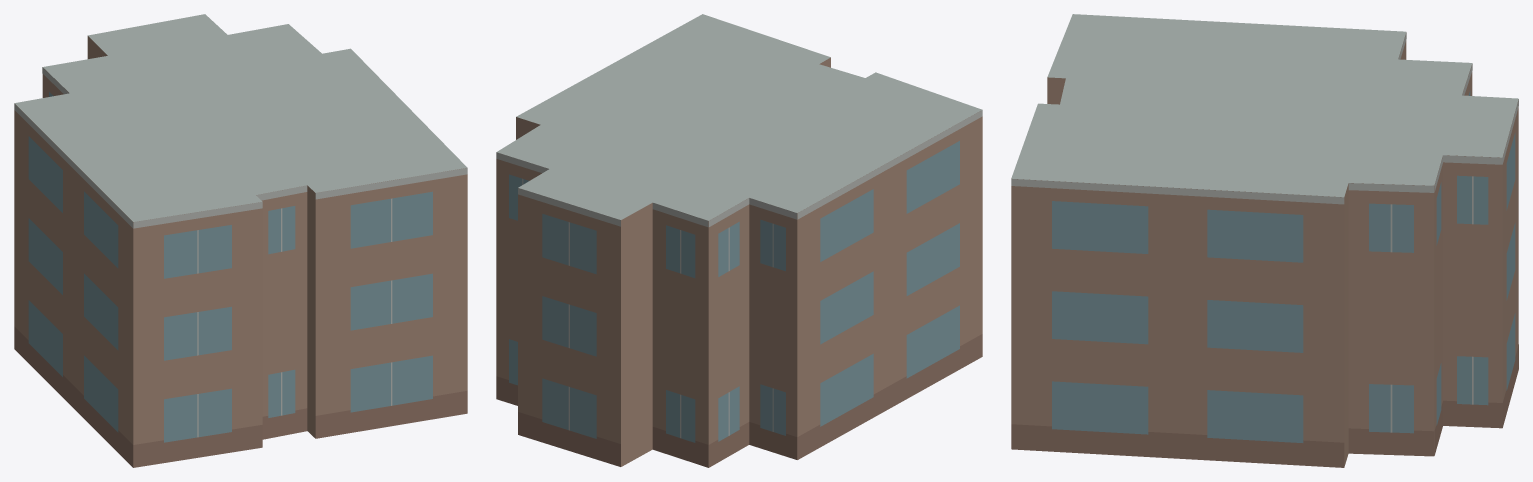
Rendered from survey-upis-32978351.glb.
3 views of the same model, side by side, from view 1: azimuth 30°, elevation 25°; view 2: azimuth 150°, elevation 25°; view 3: azimuth 270°, elevation 25° (orthographic). The views are drawn at different scales.
Visible parts, largest first — view 1: survey-upis-32978351.tmp; view 2: survey-upis-32978351.tmp; view 3: survey-upis-32978351.tmp.
Part boxes in pixels (bbox=[...]): survey-upis-32978351.tmp: bbox=[14, 14, 467, 467]; survey-upis-32978351.tmp: bbox=[496, 14, 982, 467]; survey-upis-32978351.tmp: bbox=[1011, 14, 1518, 467].
Bounding box in the file's own units: 13.3 × 9.15 × 15.57.
